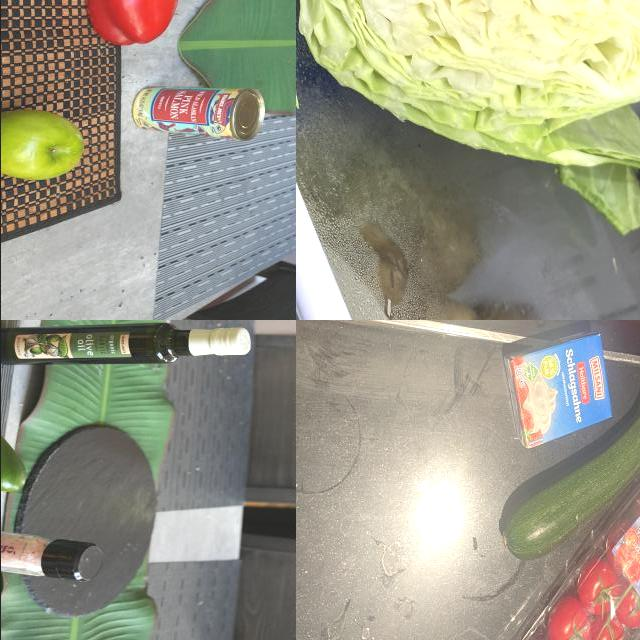bell_pepper: (85, 1, 184, 46), (1, 416, 36, 504)
cabbage: (296, 1, 640, 235)
tomato: (554, 593, 597, 640), (583, 566, 624, 612), (597, 625, 630, 640)
zucchini: (493, 350, 640, 564)
